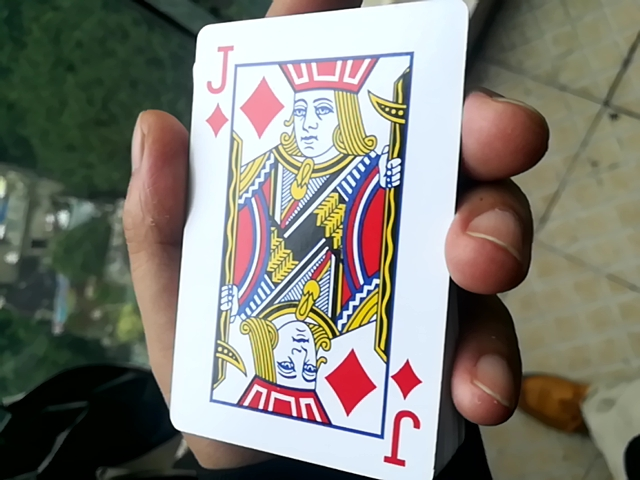fk j: (156, 10, 460, 480)
